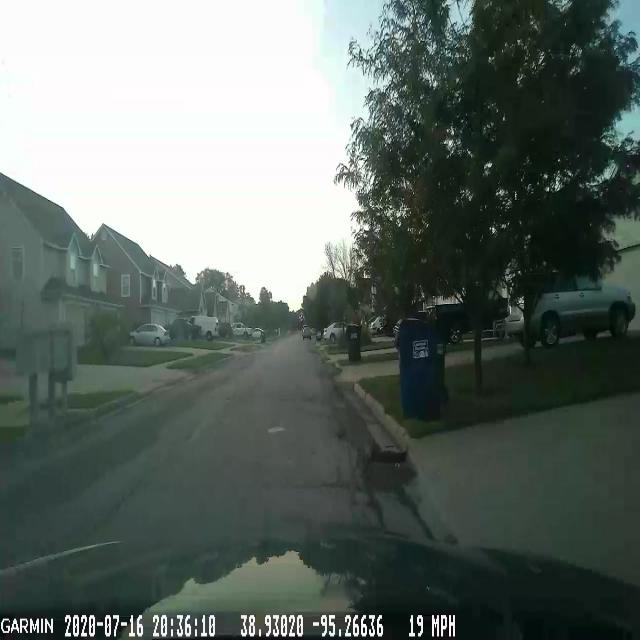Pothole: (358, 448, 420, 506)
